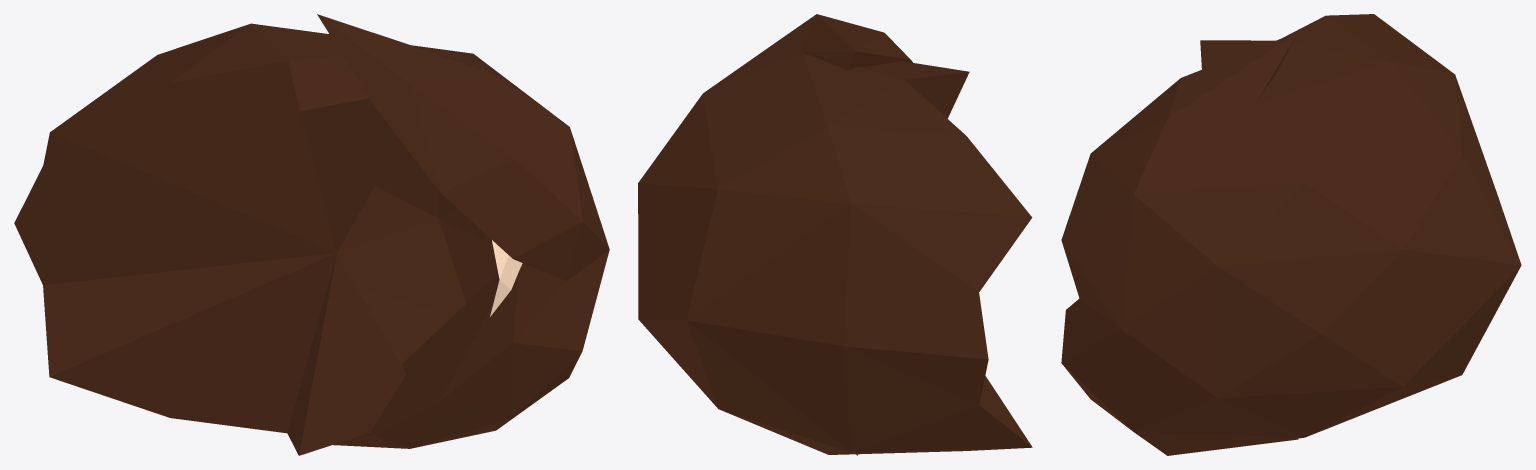
File: hair20.glb
3 renders of one model, left to right at view 1: azimuth 30°, elevation 25°; view 2: azimuth 150°, elevation 25°; view 3: azimuth 270°, elevation 25°, orthographic. The views are drawn at different scales.
Visible parts, largest first — view 1: tomodachi-2026-03-13-22-18-17-009, tomodachi-2026-03-13-22-18-17-009.008; view 2: tomodachi-2026-03-13-22-18-17-009; view 3: tomodachi-2026-03-13-22-18-17-009.
Part boxes in pixels (x1=…): tomodachi-2026-03-13-22-18-17-009: x1=14, y1=14, x2=609, y2=455; tomodachi-2026-03-13-22-18-17-009.008: x1=490, y1=240, x2=522, y2=316; tomodachi-2026-03-13-22-18-17-009: x1=638, y1=14, x2=1032, y2=455; tomodachi-2026-03-13-22-18-17-009: x1=1061, y1=14, x2=1521, y2=455.
Size of the model in its own units: 1.36 by 1.27 by 1.3.
2 materials, 2 textured.
